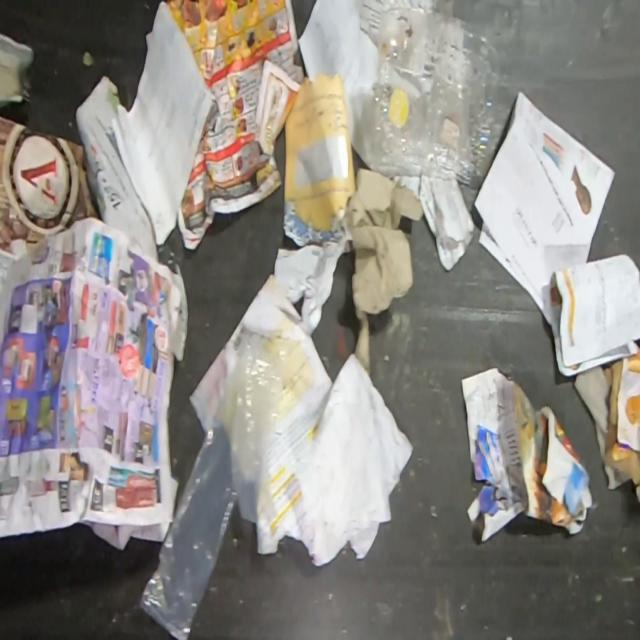cardboard: (0, 115, 101, 252)
rigid_plastic: (364, 0, 496, 186)
soft_plastic: (137, 336, 286, 639)
